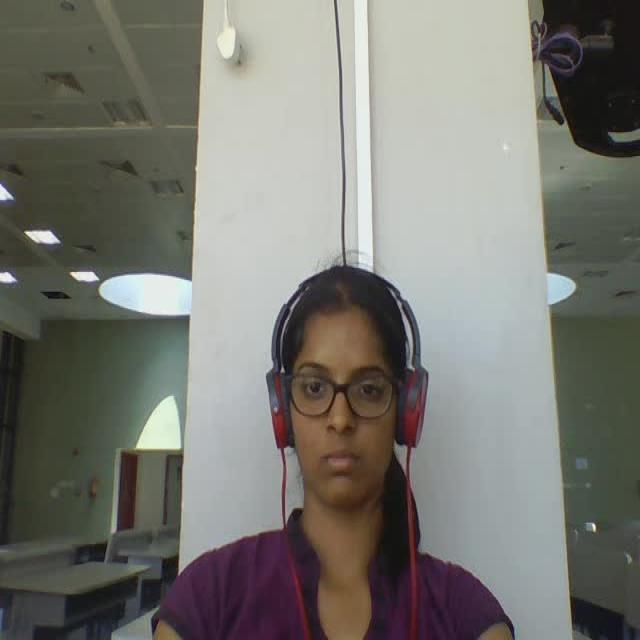Engaged: (233, 263, 454, 546)
